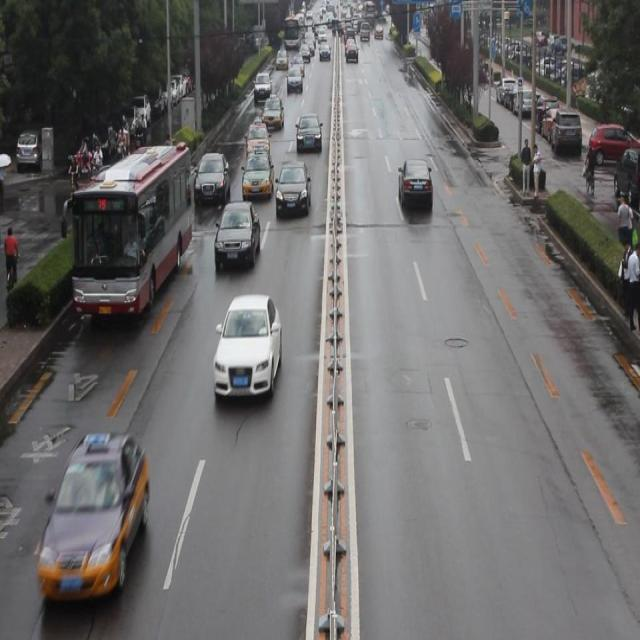car: (37, 433, 149, 605), (212, 293, 282, 405), (215, 201, 260, 274), (91, 177, 150, 222), (275, 161, 310, 221), (195, 150, 230, 208), (398, 161, 433, 216), (242, 154, 274, 203), (296, 115, 322, 155), (245, 123, 270, 160), (263, 97, 284, 131), (254, 73, 271, 107)
van: (65, 142, 192, 322)
